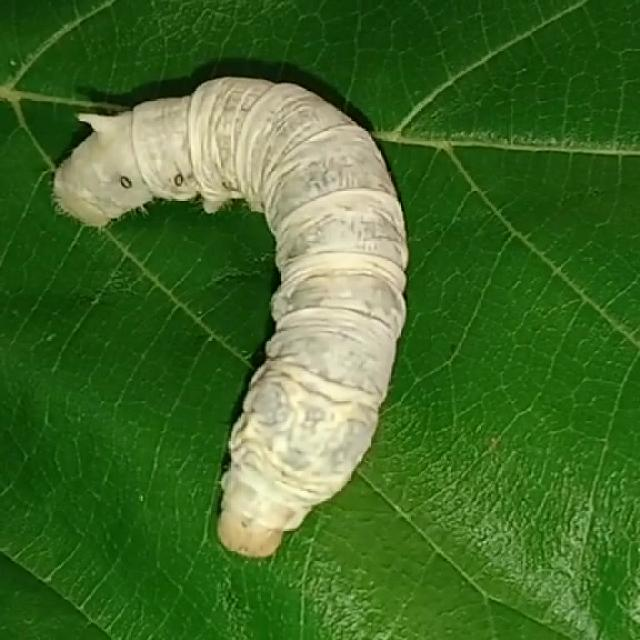Grasserie: (51, 61, 416, 562)
